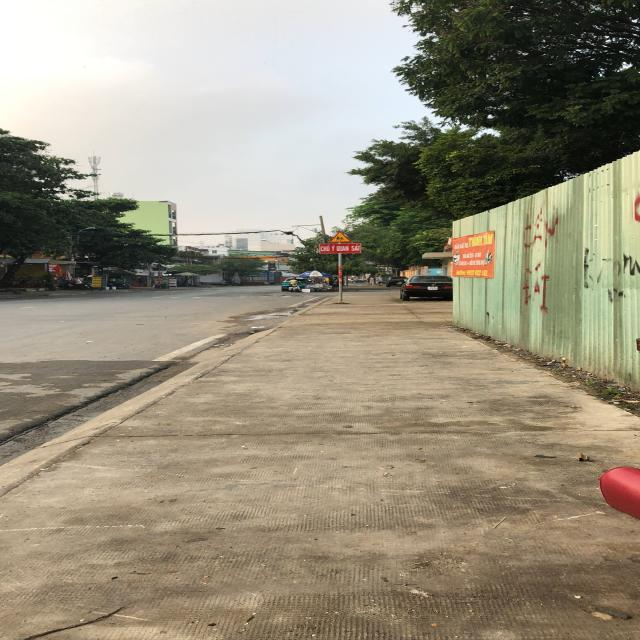Bien bao tre em: (329, 230, 354, 244)
